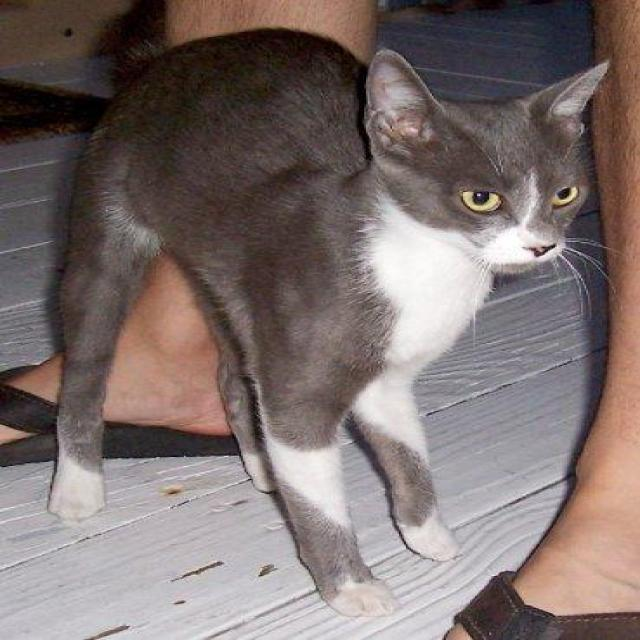Cats: (45, 27, 612, 617)
